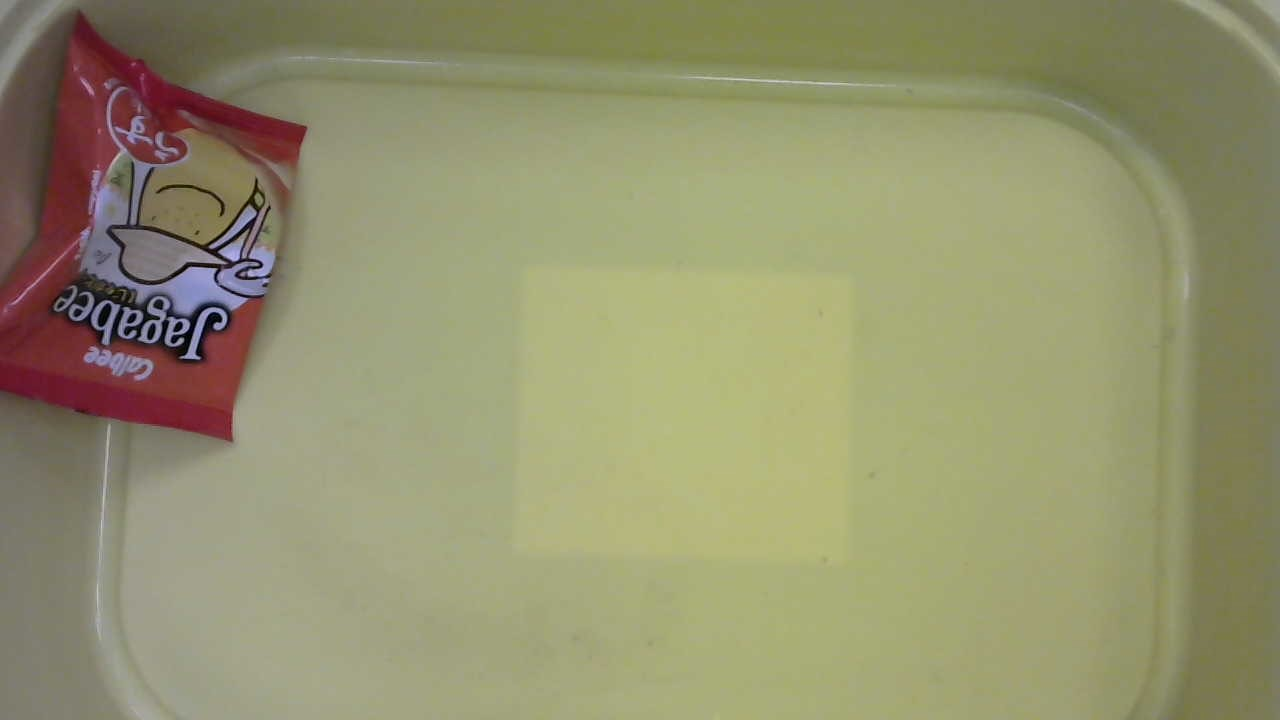JagabeeFarmer: (1, 1, 304, 459)
